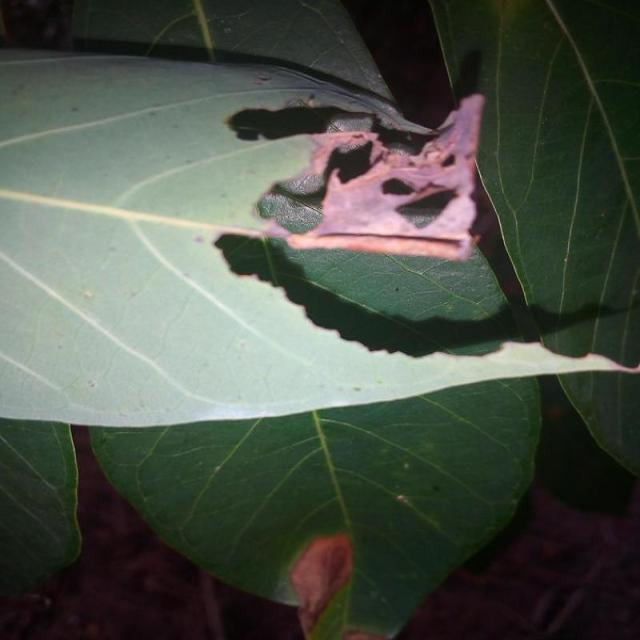cassava leaf: (0, 1, 638, 636), (87, 366, 543, 637), (427, 0, 639, 476)
